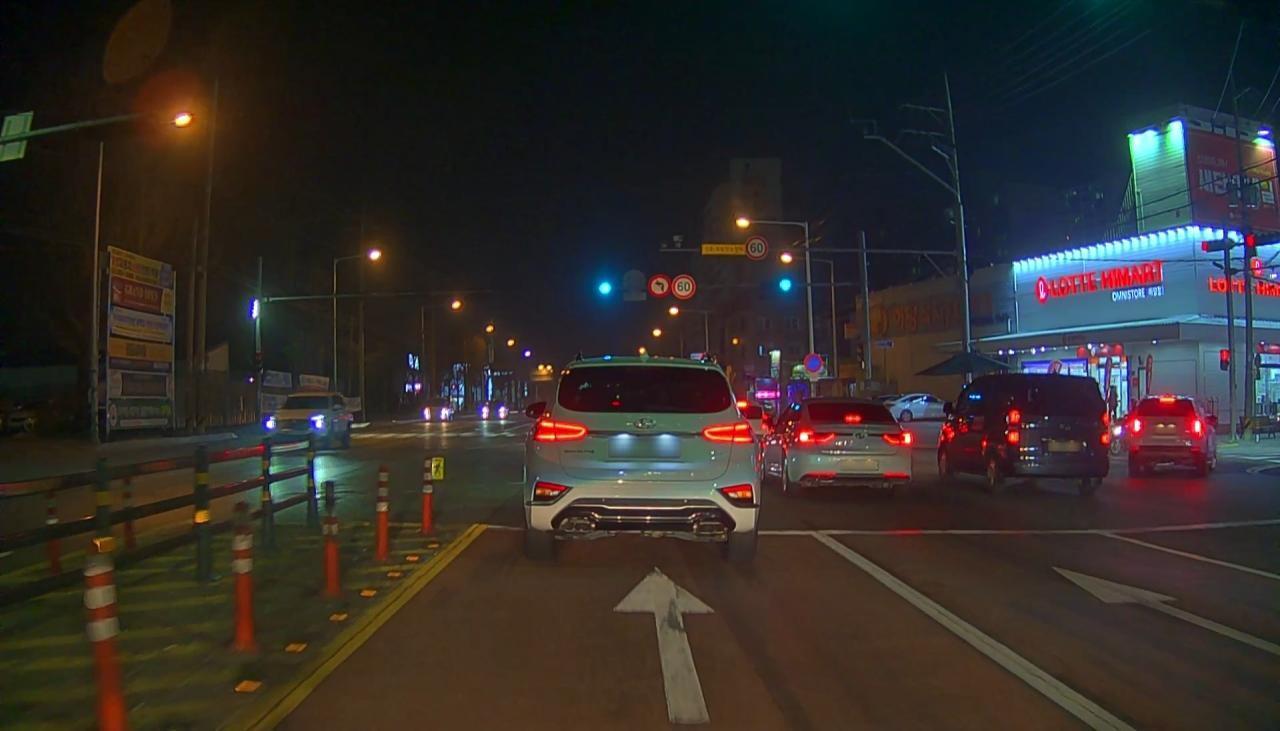Green Light: (599, 282, 613, 296), (779, 279, 792, 291)
Red Light: (1244, 233, 1258, 247), (1201, 239, 1210, 252)
